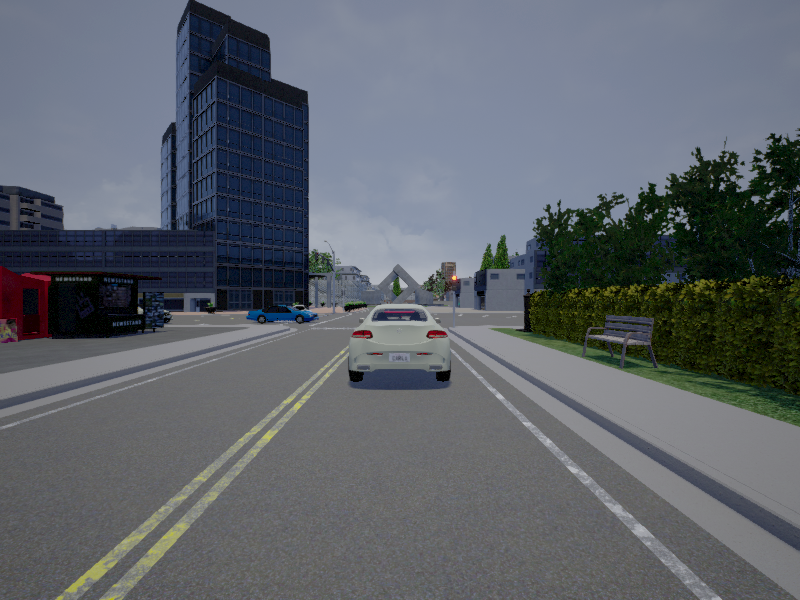Benign: (347, 303, 453, 385), (245, 306, 317, 325)
